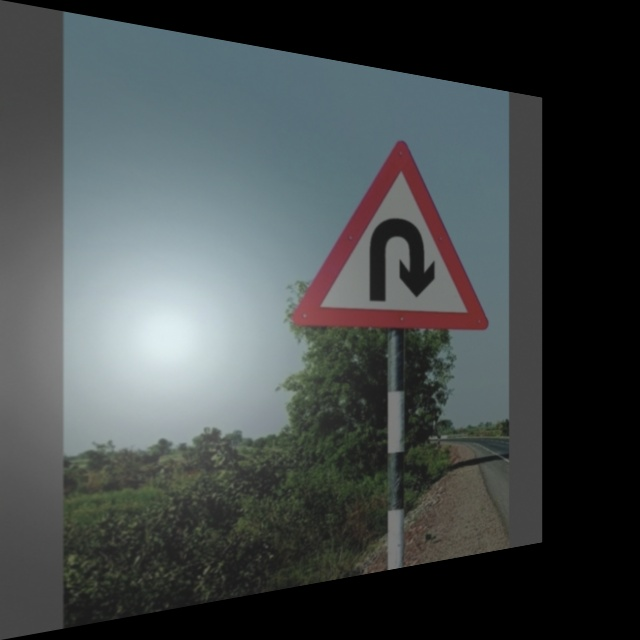Right_Hair_Pin_Bend: (294, 128, 489, 331)
